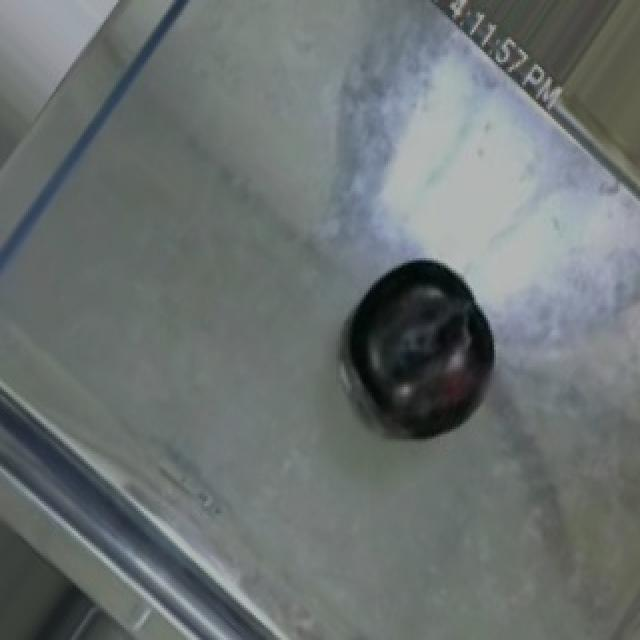Fruit: (328, 238, 518, 462)
